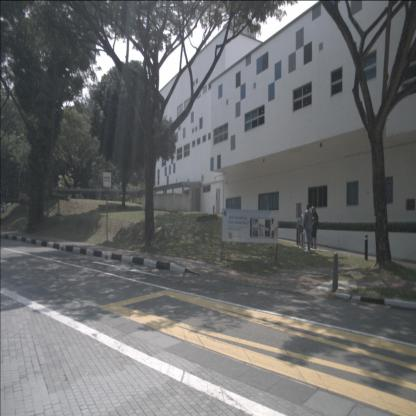human-pedestrian-adult: (304, 204, 312, 252), (311, 207, 319, 249), (298, 210, 306, 248)
